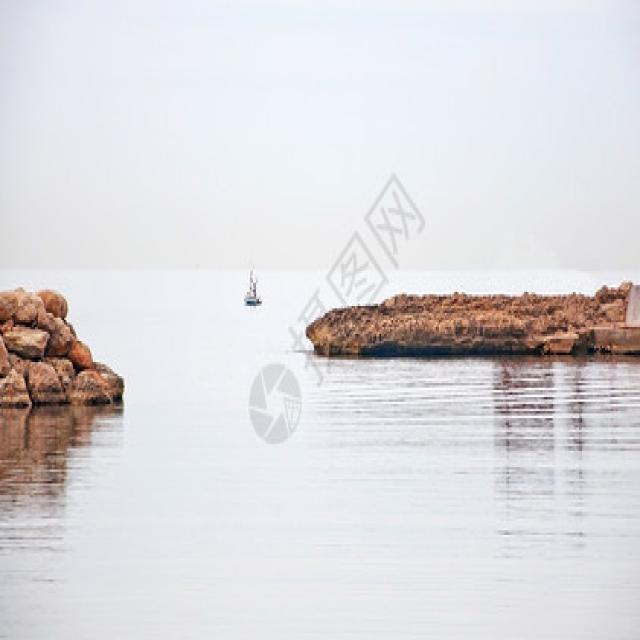fishing boat: (232, 267, 266, 320)
reef: (295, 280, 640, 369), (0, 264, 139, 397)
